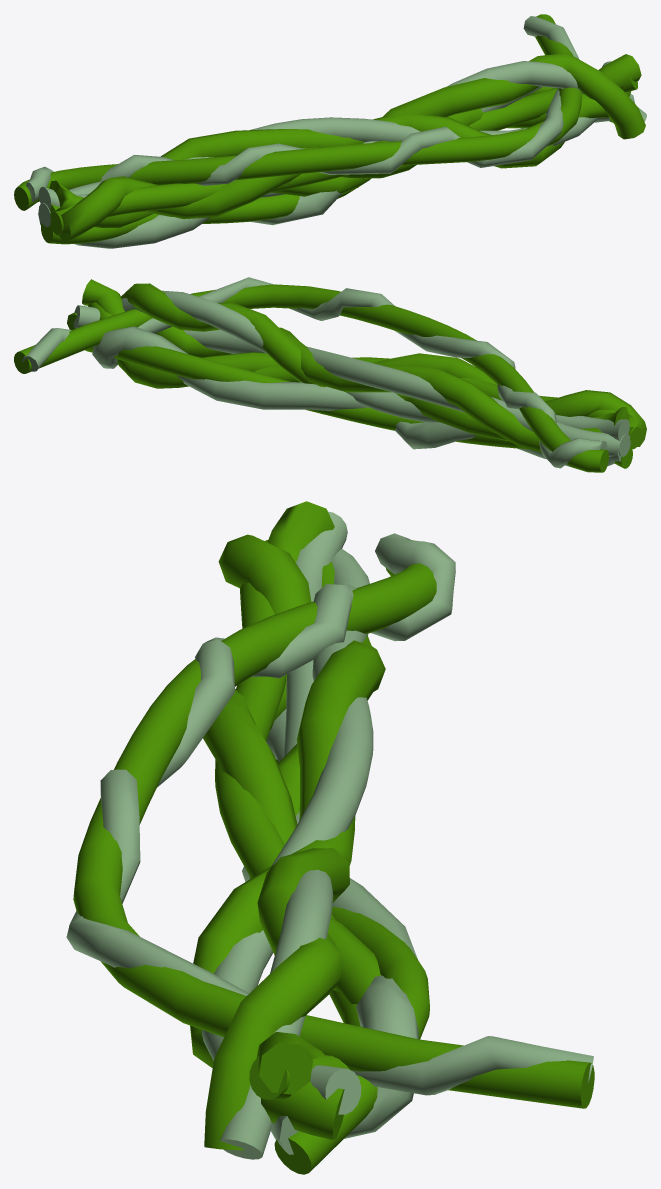
The model's file is Ranken_5.fbx.
3 renders of one model, top to bottom at view 1: azimuth 30°, elevation 25°; view 2: azimuth 150°, elevation 25°; view 3: azimuth 270°, elevation 25°, orthographic. The views are drawn at different scales.
Parts seen in each view (by area): view 1: Ranken_5; view 2: Ranken_5; view 3: Ranken_5.
Part boxes in pixels (bbox=[...]): Ranken_5: bbox=[14, 14, 646, 248]; Ranken_5: bbox=[14, 277, 646, 472]; Ranken_5: bbox=[66, 501, 594, 1174].
Size of the model in its own units: 1764 by 299 by 723.
